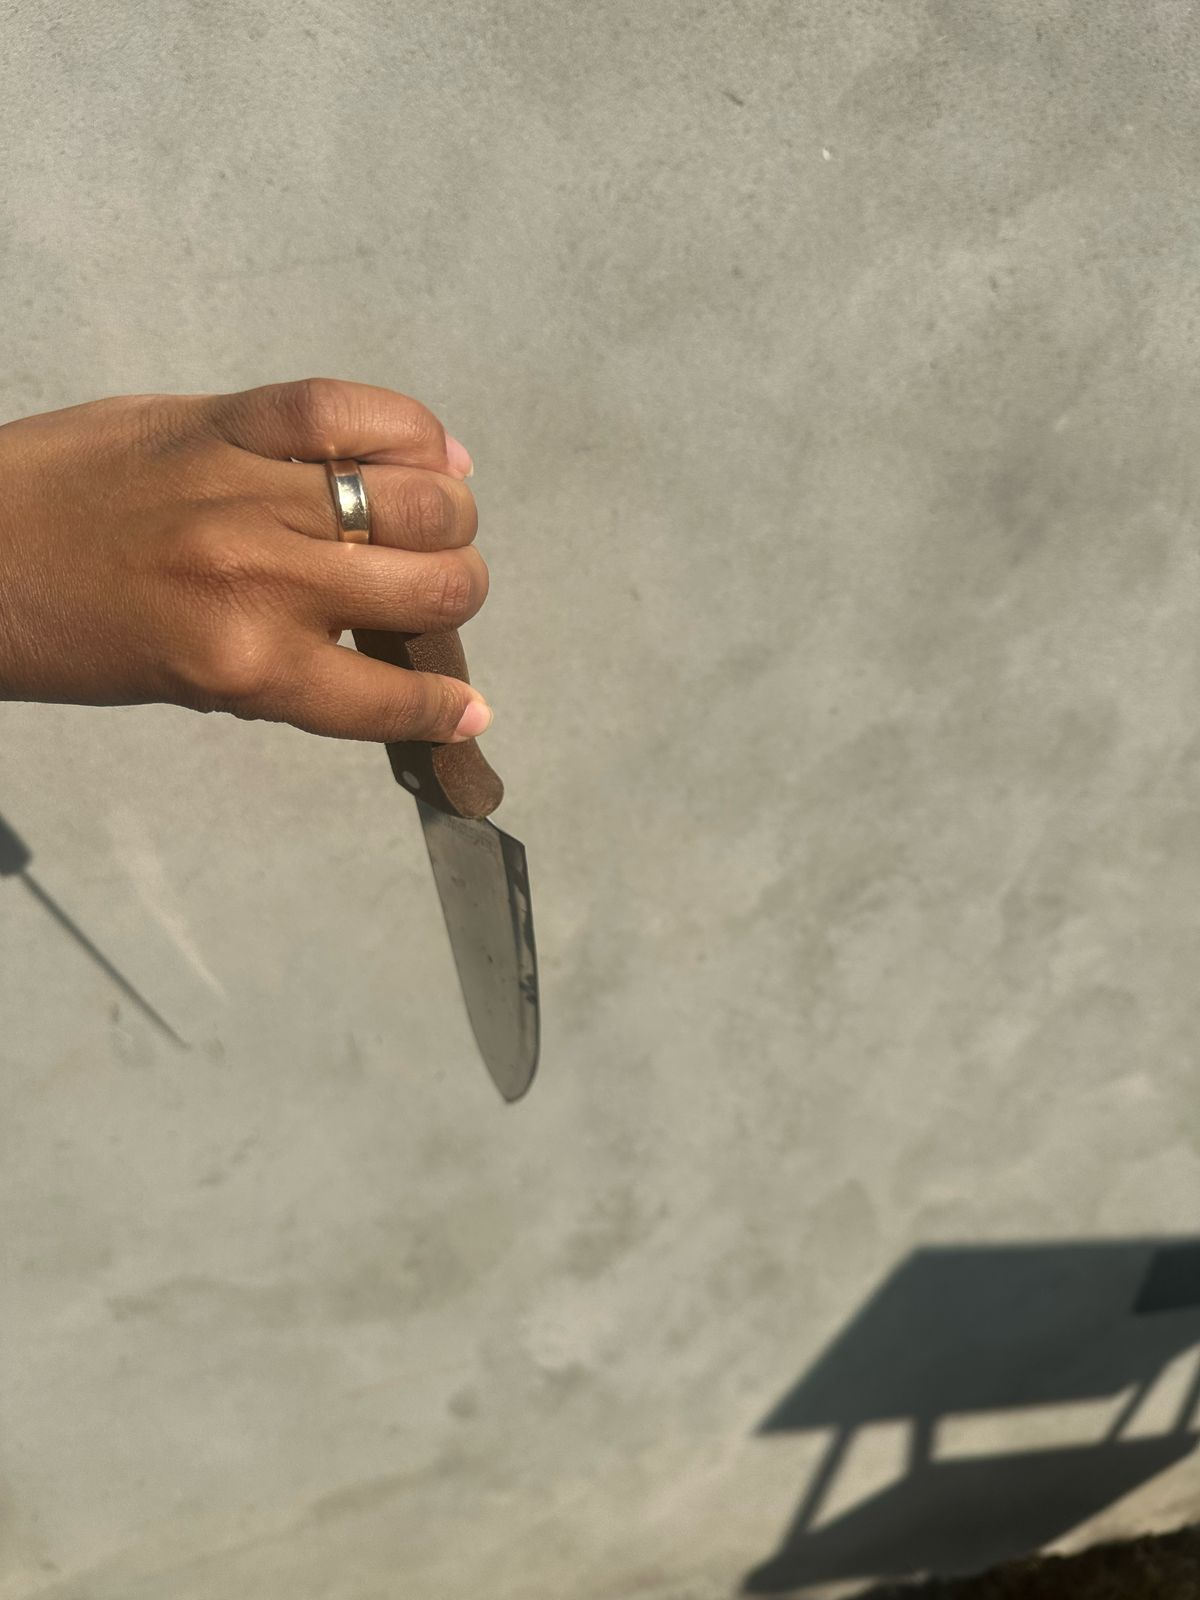faca: (357, 760, 566, 1123)
